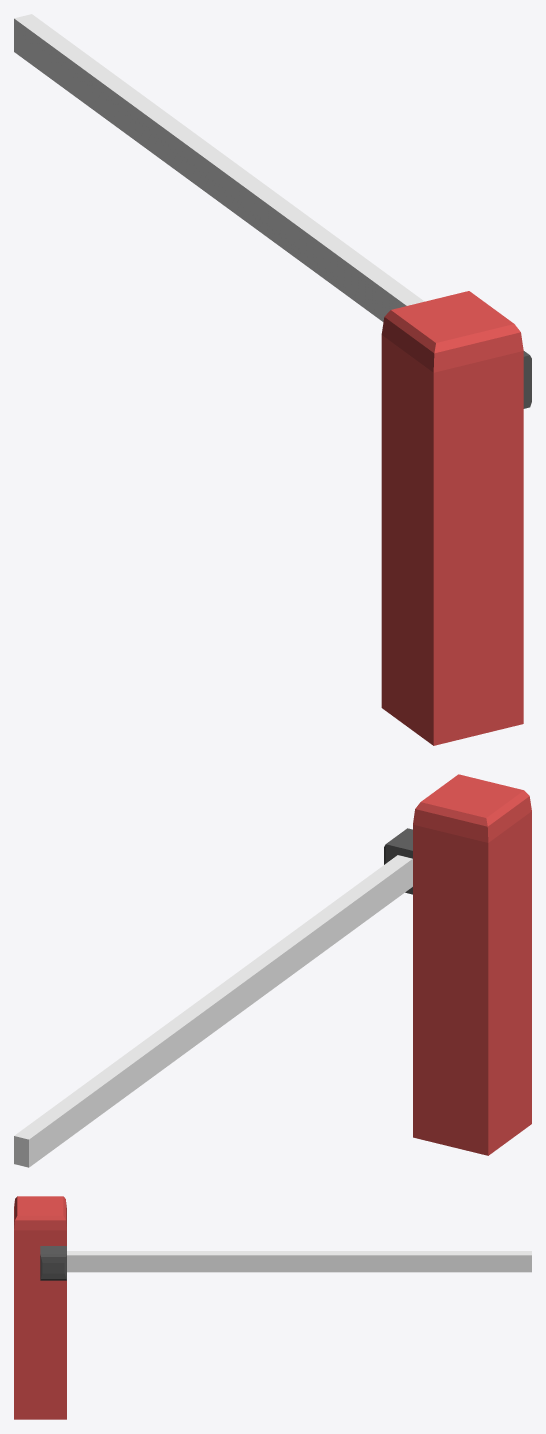
The model's file is Barrier 1.1.fbx.
3 renders of one model, top to bottom at view 1: azimuth 30°, elevation 25°; view 2: azimuth 150°, elevation 25°; view 3: azimuth 270°, elevation 25°, orthographic. The views are drawn at different scales.
Visible parts, largest first — view 1: Barrier_6.001; view 2: Barrier_6.001; view 3: Barrier_6.001.
Part boxes in pixels (x1,y1,x2,y2): Barrier_6.001: (14,14,531,745); Barrier_6.001: (14,774,531,1167); Barrier_6.001: (14,1196,531,1419).
Bounding box in the file's own units: 66.83 × 202 × 468.
